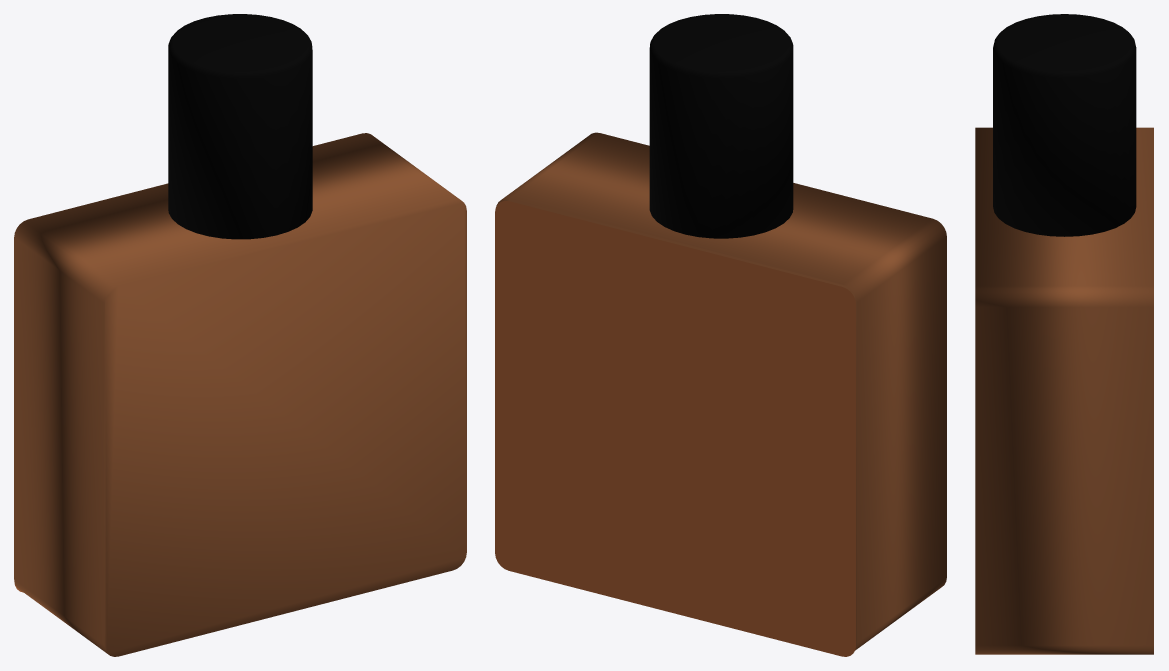
Rendered from OrangePerfume.glb.
The picture shows the model from 3 angles, left to right: view 1: azimuth 30°, elevation 25°; view 2: azimuth 150°, elevation 25°; view 3: azimuth 270°, elevation 25°; orthographic projection.
Visible parts, largest first — view 1: liqud; view 2: liqud; view 3: liqud.
Part boxes in pixels (bbox=[...]): liqud: bbox=[14, 14, 466, 656]; liqud: bbox=[495, 14, 946, 656]; liqud: bbox=[975, 14, 1153, 654].
Size of the model in its own units: 2.79 by 3.98 by 1.21.
